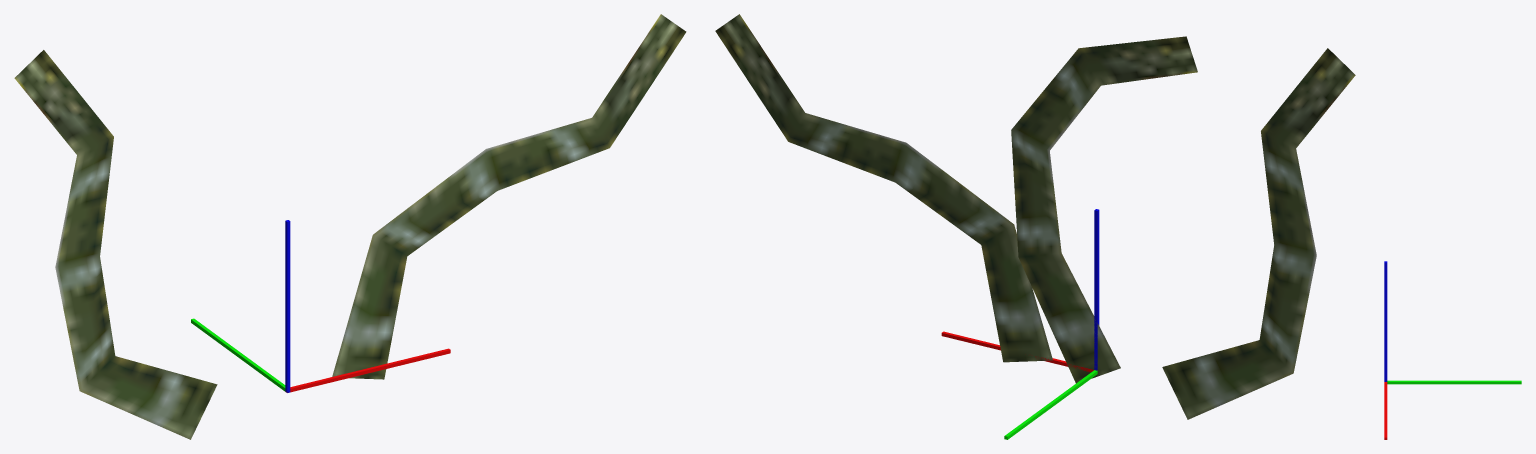
File: snake-a.glb
3 views of the same model, side by side, from view 1: azimuth 30°, elevation 25°; view 2: azimuth 150°, elevation 25°; view 3: azimuth 270°, elevation 25° (orthographic). The views are drawn at different scales.
Parts seen in each view (by area): view 1: special g medusa snakesa_idleModel, Dummy_hotspot; view 2: special g medusa snakesa_idleModel, Dummy_hotspot; view 3: Dummy_hotspot.
Boxes of the visible parts, x1,y1,x2,y2 form: special g medusa snakesa_idleModel: [14, 14, 686, 439]; Dummy_hotspot: [191, 220, 450, 392]; special g medusa snakesa_idleModel: [715, 14, 1355, 419]; Dummy_hotspot: [941, 209, 1099, 439]; Dummy_hotspot: [1384, 261, 1521, 439].
Bounding box in the file's own units: 1.03 × 0.6226 × 0.255.
2 materials, 1 textured.
